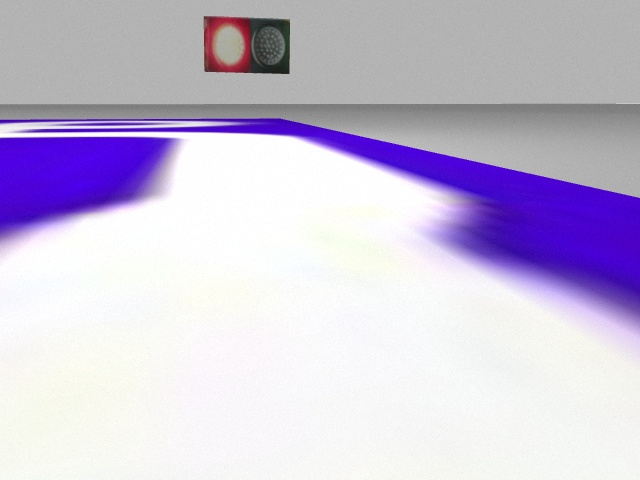red: (202, 16, 251, 72)
